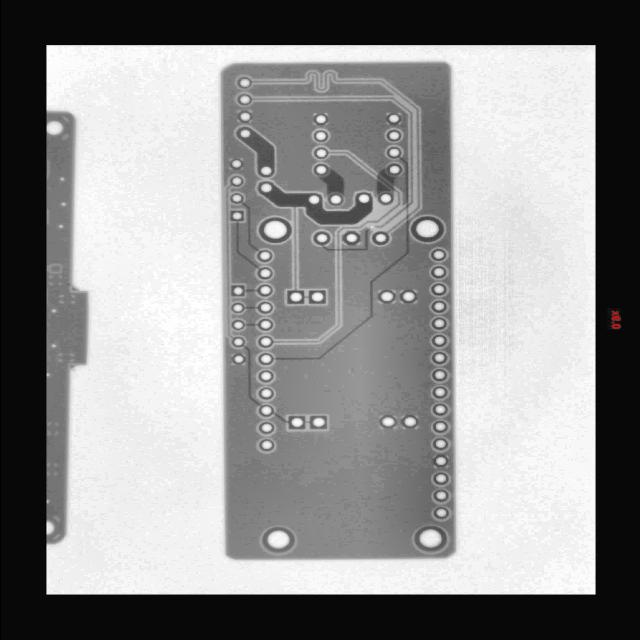Both: (258, 522, 297, 558), (410, 216, 443, 242), (259, 217, 291, 243), (414, 527, 446, 553), (227, 189, 246, 208), (312, 230, 330, 247), (377, 289, 396, 305), (341, 230, 360, 246), (256, 420, 275, 436), (256, 299, 273, 316), (378, 414, 396, 430), (307, 290, 326, 305), (400, 414, 419, 429), (235, 75, 252, 91), (385, 162, 403, 177), (308, 415, 327, 429), (326, 192, 343, 207), (286, 290, 304, 304), (257, 386, 273, 401), (228, 156, 244, 171), (432, 419, 448, 434), (399, 290, 417, 303), (385, 129, 401, 143), (385, 112, 401, 126), (229, 335, 245, 349), (432, 506, 448, 520), (431, 403, 447, 417), (371, 232, 388, 245), (256, 284, 273, 297), (287, 416, 304, 429), (229, 175, 244, 189), (257, 353, 273, 366), (236, 110, 252, 123), (257, 318, 272, 331), (258, 404, 273, 417), (313, 163, 328, 176), (257, 370, 273, 382), (258, 439, 274, 451), (432, 438, 448, 450), (386, 147, 401, 159), (256, 250, 271, 262), (257, 267, 272, 279), (258, 336, 273, 348), (312, 130, 327, 142), (431, 369, 446, 381), (431, 301, 446, 313), (430, 283, 445, 295), (431, 387, 447, 398), (230, 319, 244, 331), (313, 113, 327, 125), (433, 472, 447, 484), (431, 266, 445, 278), (430, 249, 445, 260), (230, 285, 243, 297), (378, 193, 392, 204), (230, 302, 244, 313), (237, 94, 251, 105), (433, 455, 447, 466), (431, 335, 445, 346), (431, 318, 445, 329), (313, 148, 327, 159), (433, 491, 446, 502), (229, 211, 243, 221), (289, 291, 301, 302), (432, 353, 445, 363), (260, 165, 271, 176), (232, 354, 244, 364), (259, 183, 271, 193), (238, 129, 250, 139), (358, 194, 369, 203), (312, 292, 323, 301), (309, 196, 318, 204), (369, 225, 373, 229)
L1: (272, 151, 447, 392), (253, 180, 373, 230), (230, 118, 286, 182), (309, 156, 352, 210), (223, 221, 260, 275), (368, 157, 404, 207), (237, 344, 261, 409), (238, 201, 259, 254), (322, 228, 370, 251), (271, 411, 289, 426), (243, 307, 257, 309), (243, 290, 257, 292), (244, 324, 257, 326), (305, 421, 310, 423)
L2: (252, 11, 467, 239), (250, 25, 456, 242), (241, 144, 410, 366), (224, 183, 233, 339), (292, 208, 296, 290)
